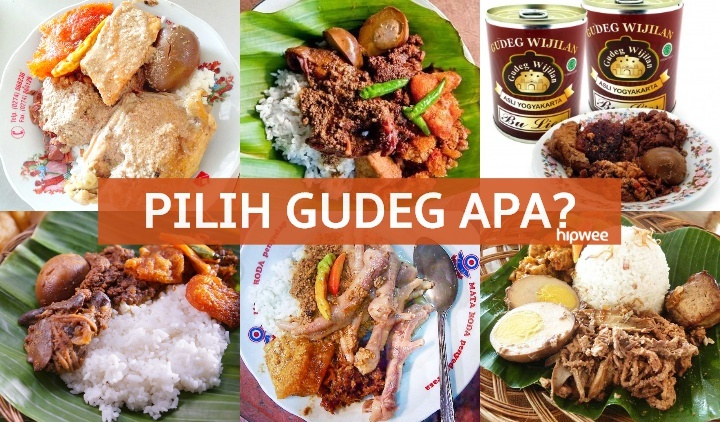gudeg: (23, 245, 239, 413), (257, 11, 468, 176), (493, 246, 720, 374)
